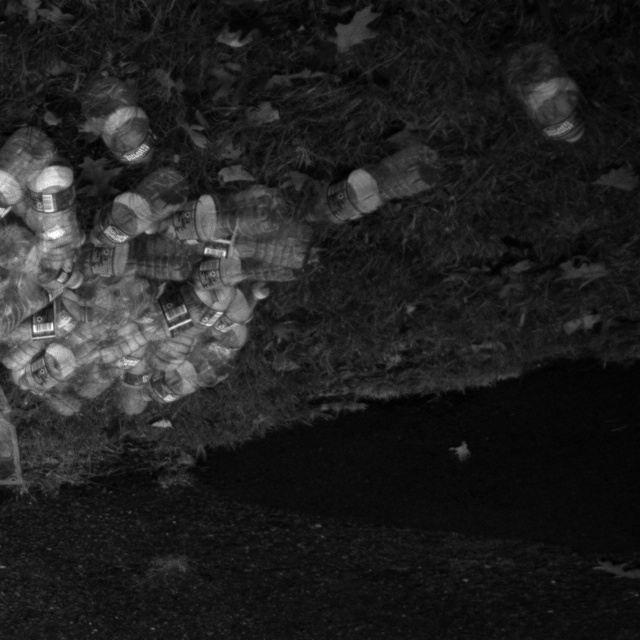bottle: (138, 296, 285, 420), (500, 27, 595, 189), (148, 165, 316, 256), (299, 132, 435, 235), (111, 270, 238, 380), (4, 146, 102, 274), (98, 157, 171, 313), (150, 214, 336, 271), (91, 63, 167, 167), (0, 108, 57, 240), (0, 285, 98, 354)
